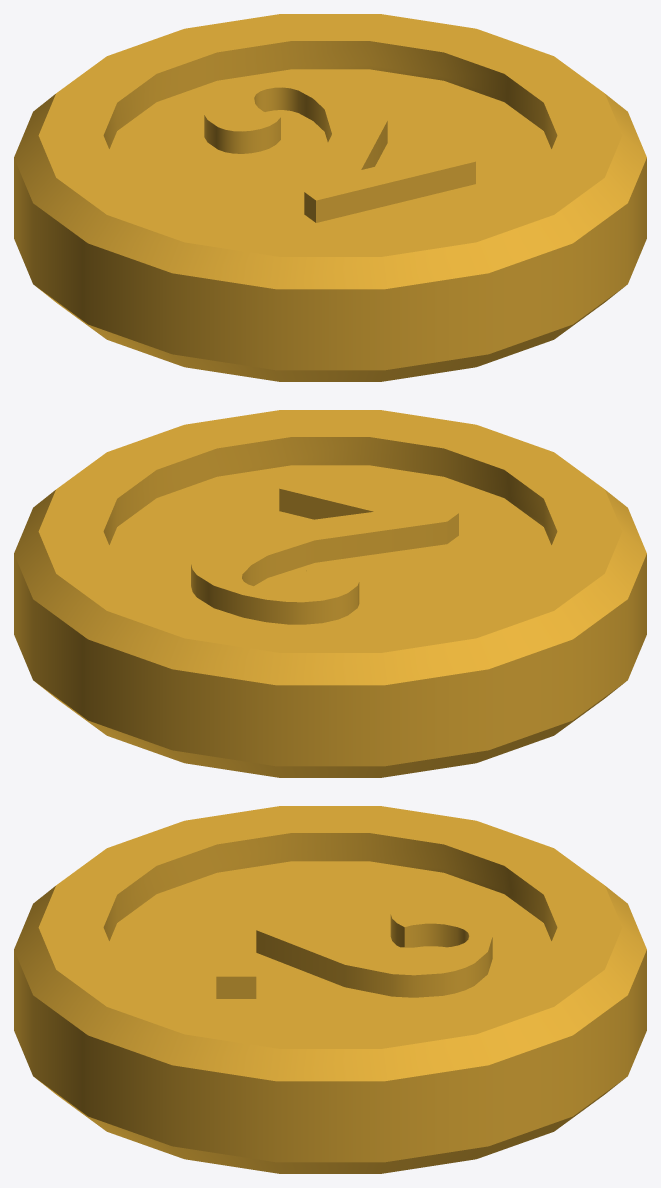
File: coin_new.glb
3 renders of one model, top to bottom at view 1: azimuth 30°, elevation 25°; view 2: azimuth 150°, elevation 25°; view 3: azimuth 270°, elevation 25°, orthographic.
Parts seen in each view (by area): view 1: coin_new; view 2: coin_new; view 3: coin_new.
Part boxes in pixels (<box>): coin_new: <box>14,14,646,381</box>; coin_new: <box>14,410,646,777</box>; coin_new: <box>14,806,646,1173</box>.
Size of the model in its own units: 1.97 by 0.4354 by 2.
